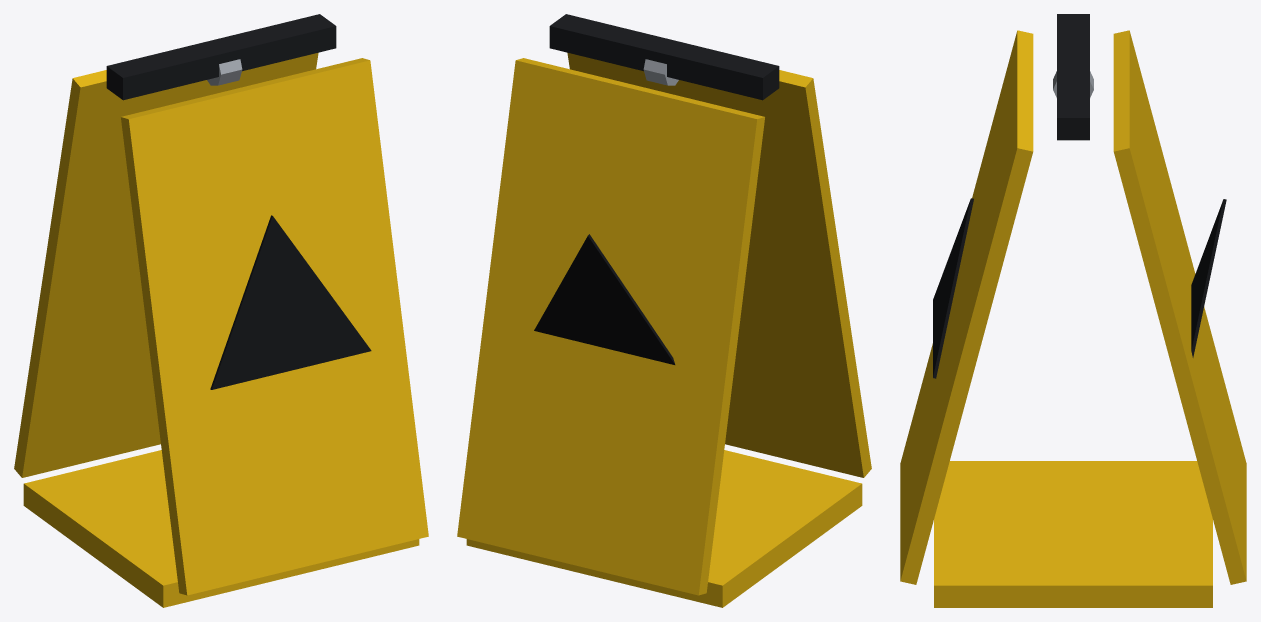
Rendered from sign_wet_floor_stand.glb.
The picture shows the model from 3 angles, left to right: view 1: azimuth 30°, elevation 25°; view 2: azimuth 150°, elevation 25°; view 3: azimuth 270°, elevation 25°; orthographic projection.
Visible parts, largest first — view 1: sign_wet_floor_stand; view 2: sign_wet_floor_stand; view 3: sign_wet_floor_stand.
Part boxes in pixels (x1,y1,x2,y2): sign_wet_floor_stand: (14,14,428,607); sign_wet_floor_stand: (457,14,871,607); sign_wet_floor_stand: (900,14,1246,607).
Bounding box in the file's own units: 0.36 × 0.645 × 0.422.
